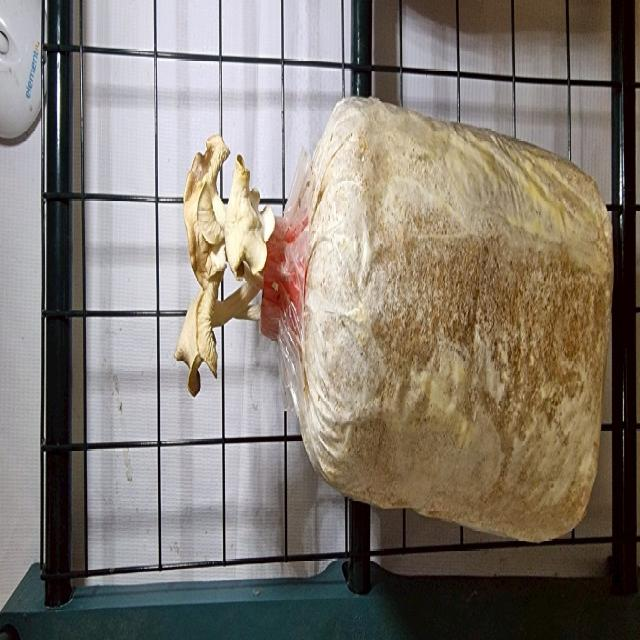abnormal: (186, 122, 232, 276), (221, 153, 274, 280), (172, 278, 224, 396)
